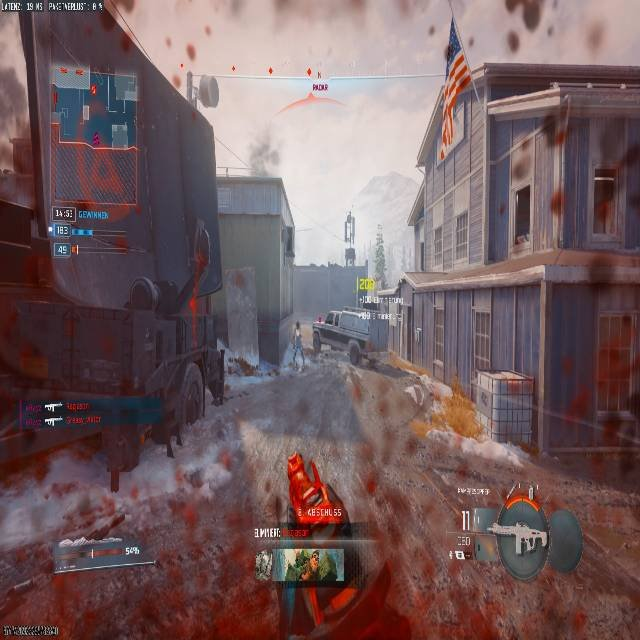player: (283, 451, 348, 579)
